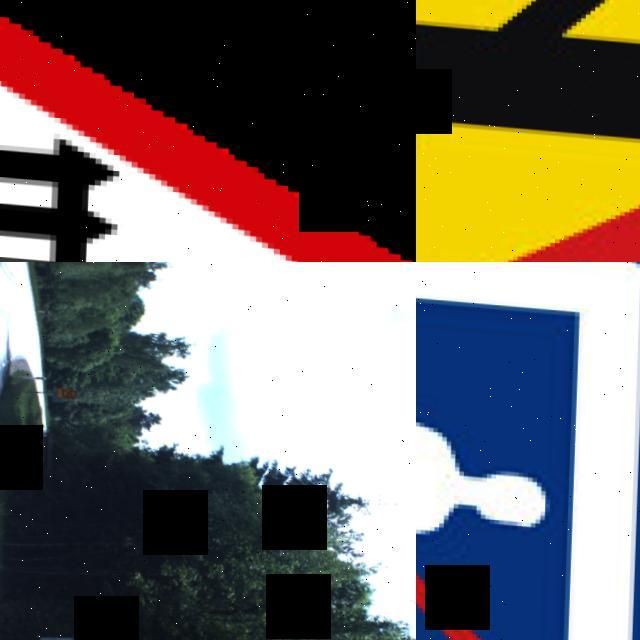166: (416, 0, 640, 262)
51: (416, 262, 640, 640)
55: (62, 383, 78, 398)
Guarded level crossing ahead: (0, 0, 416, 262)
